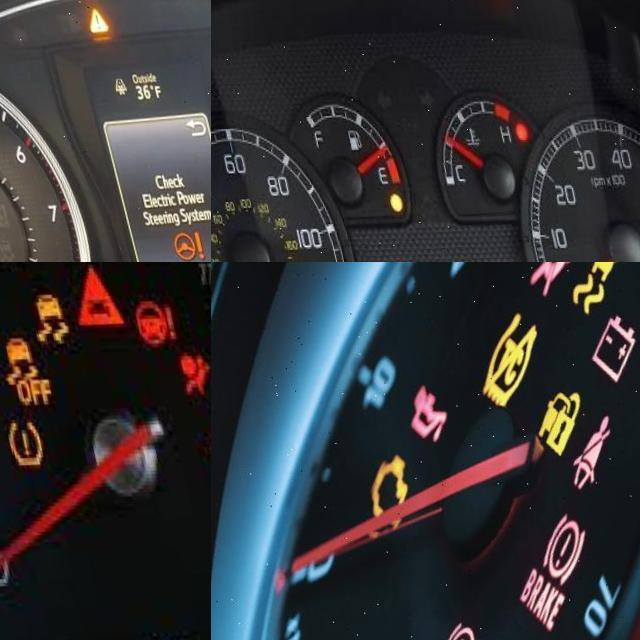Electronic Power Steering: (114, 301, 167, 351)
Electronic Power Steering Warning: (142, 232, 186, 262)
Seat Belt: (542, 421, 614, 493), (183, 411, 211, 470)
